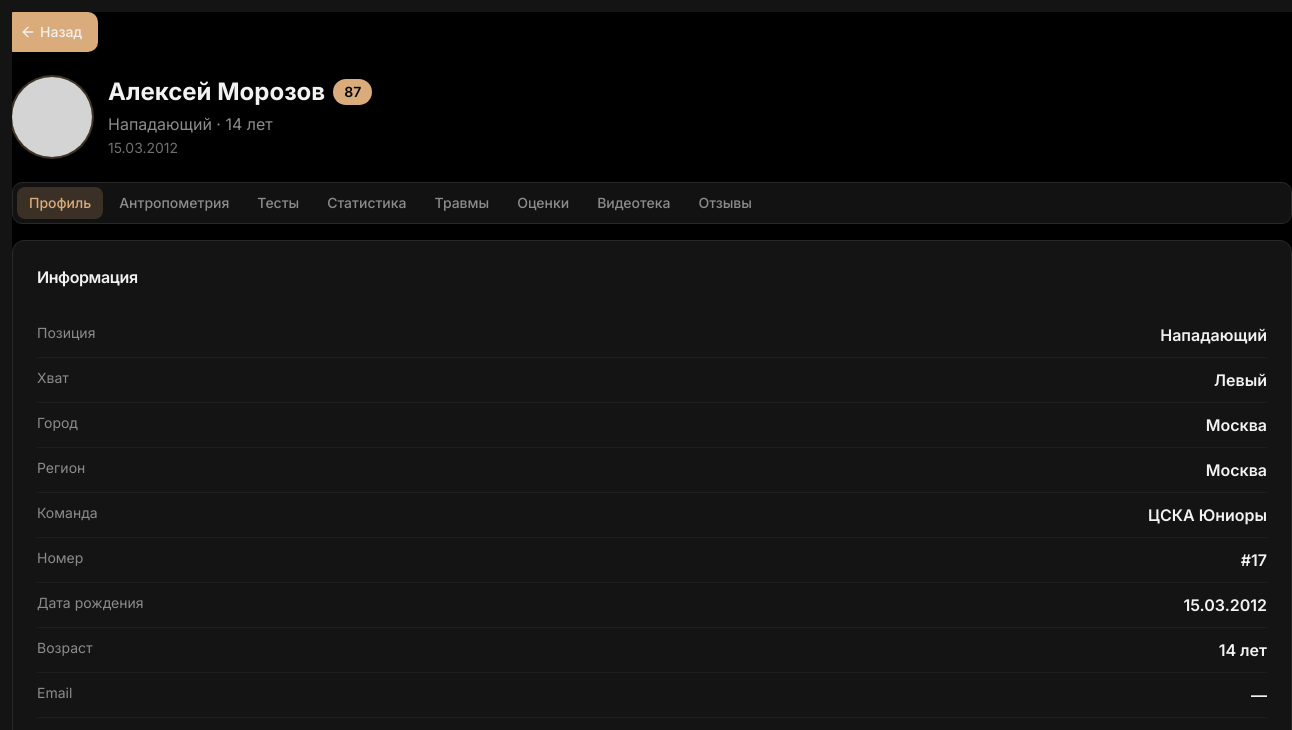
it: PlayerProfilePage › переключение на вкладку Тесты показывает кнопки категорий
This screenshot has width=1292, height=730.
Click the tab "Тесты": click(278, 203) [245,187,311,219]
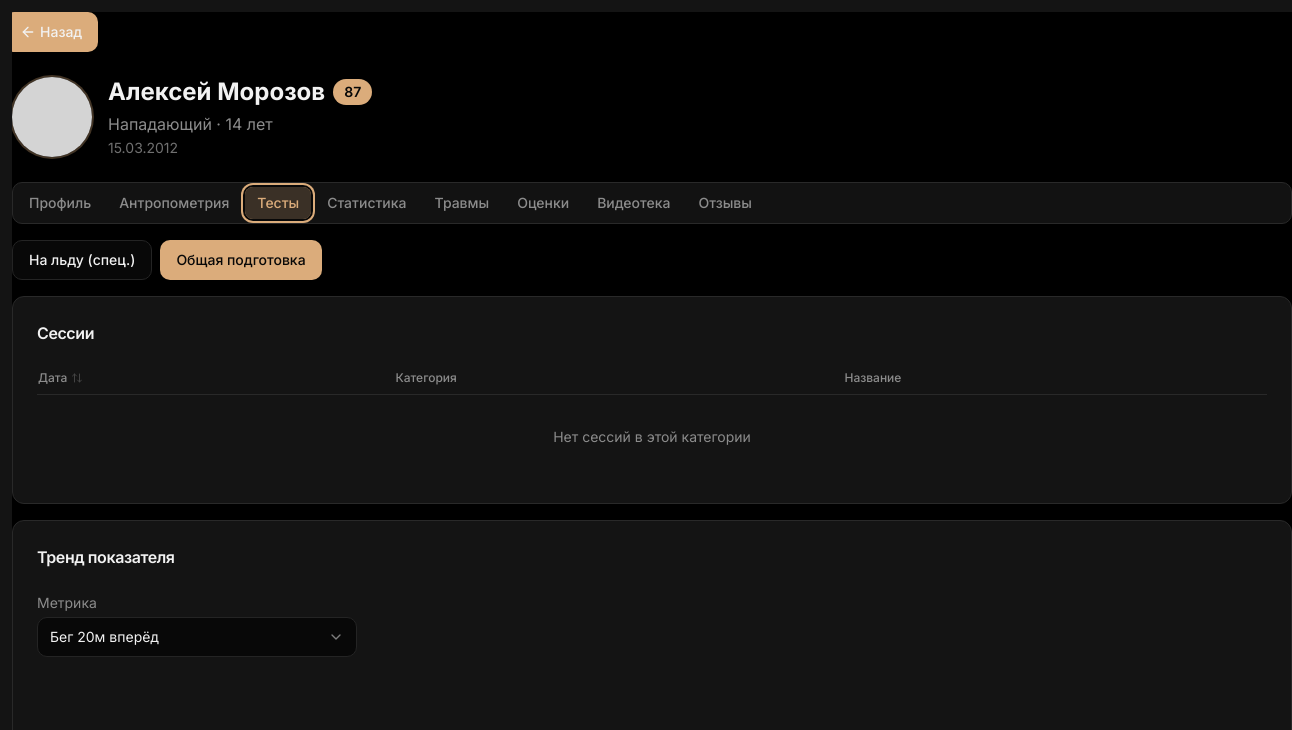
Check: the button "Общая подготовка" is shown, box [160,240,322,280]
